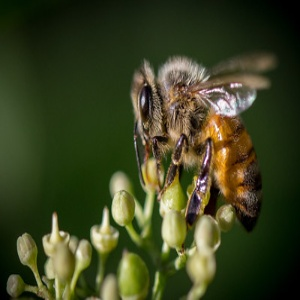bee: (128, 48, 284, 236)
